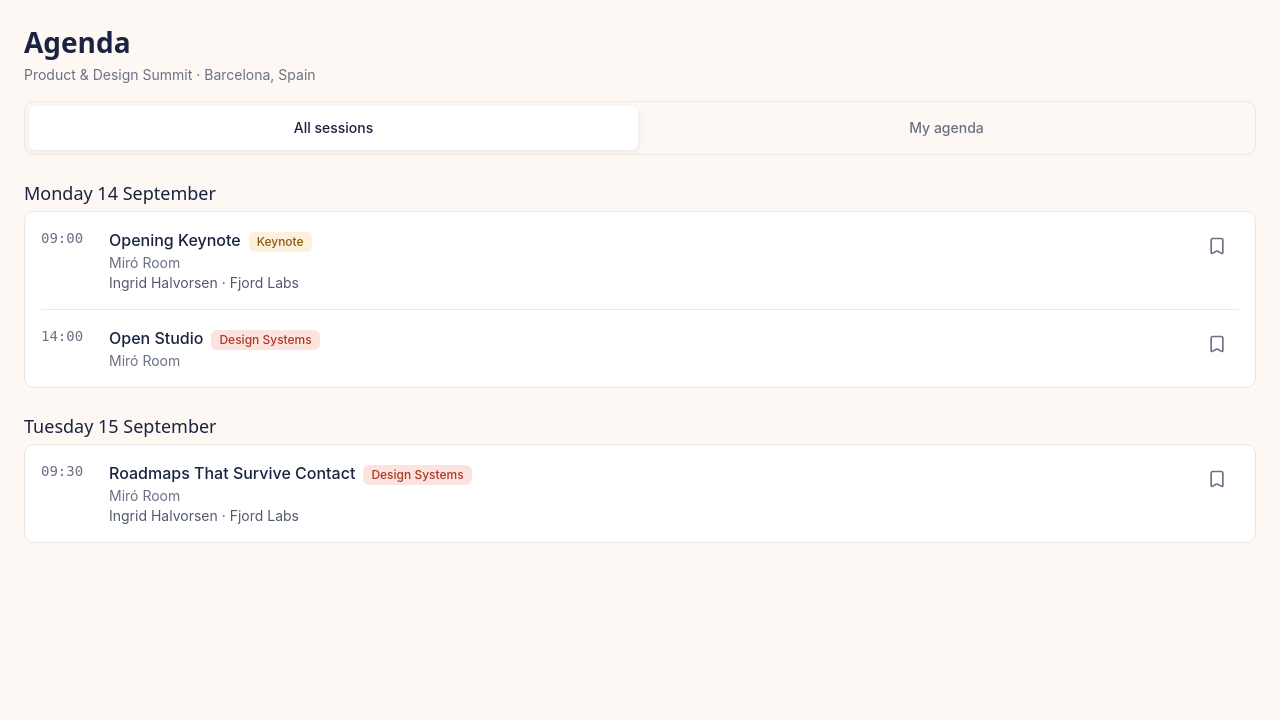
question refusals › renders the own-question refusal with its own reason (FR-722, FR-744)
The image size is (1280, 720).
Click the link "Opening Keynote".
click(175, 240)  # box [109,230,241,250]
(page scrolled)
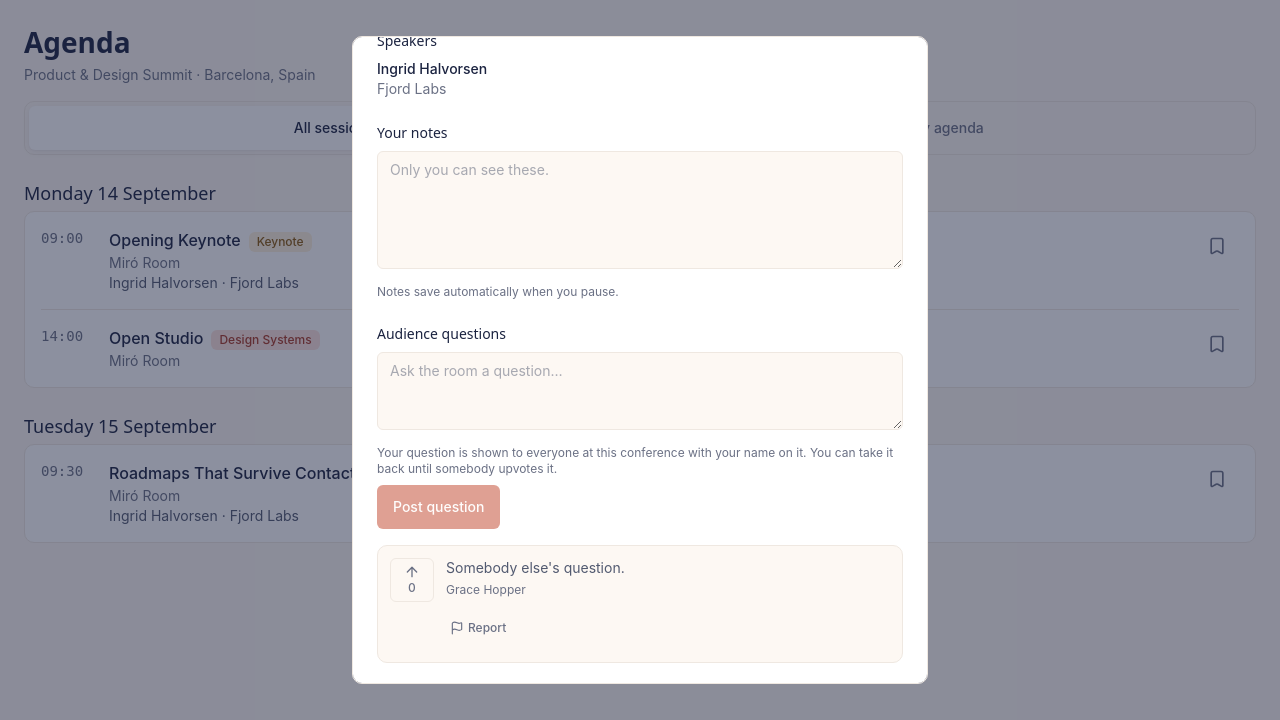
Click the button named "upvote".
click(412, 580)  # box [390,558,434,602]
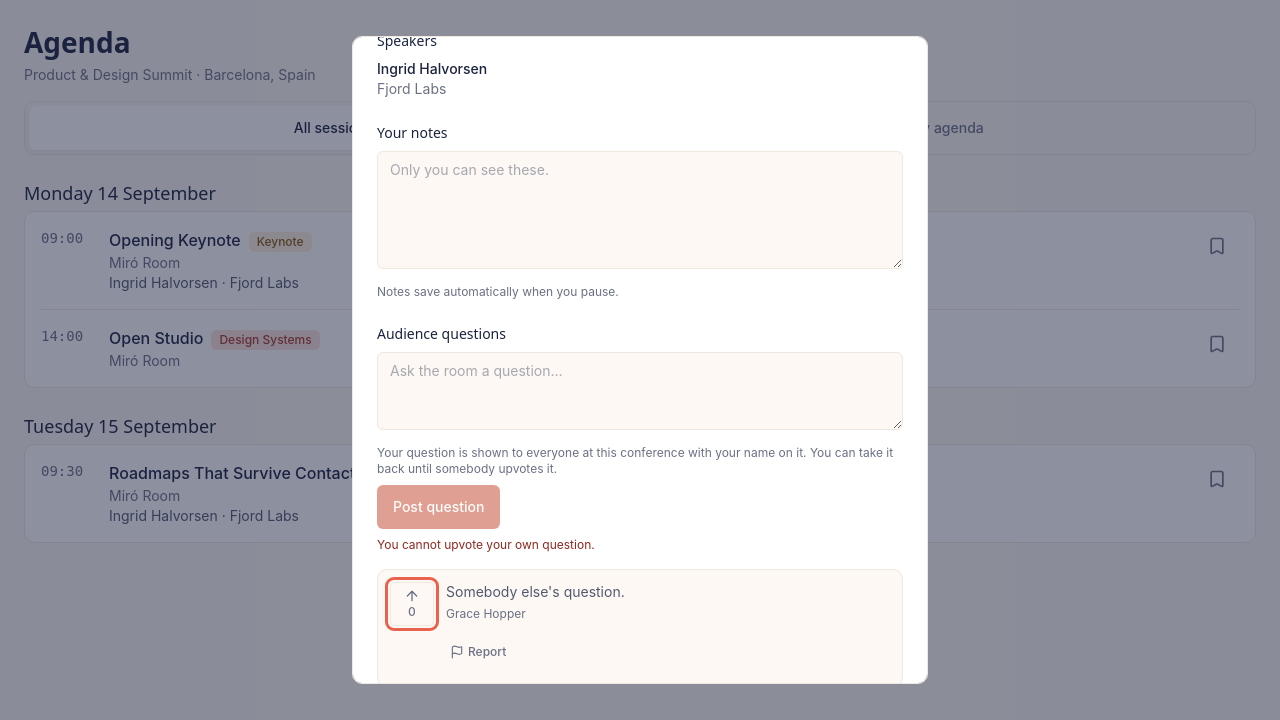
Expected: the message "You cannot upvote your own question." is shown, [377,537,595,552]
